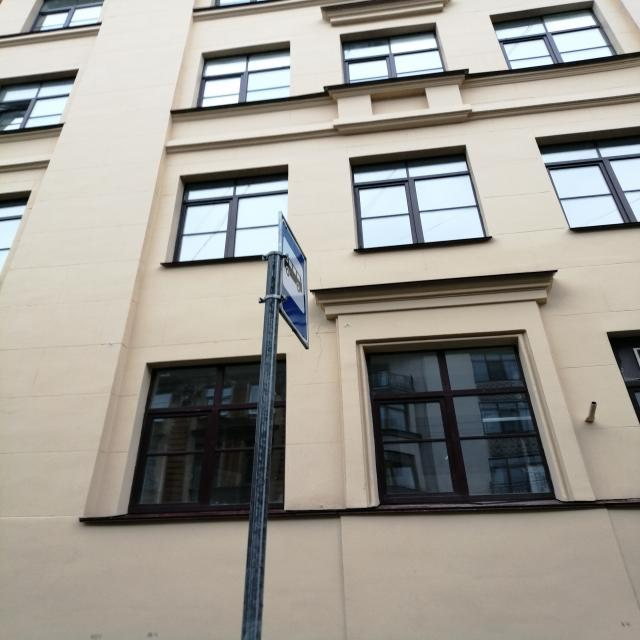road sign: (245, 248, 280, 600), (281, 218, 308, 345)
